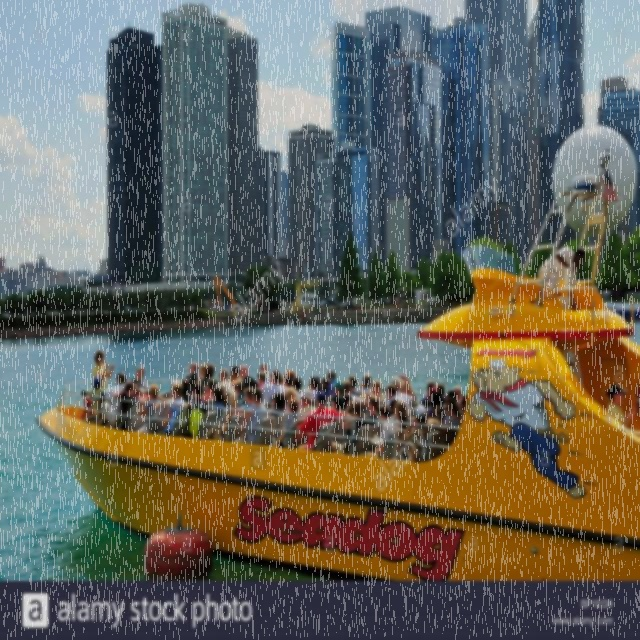pessoa: (264, 391, 352, 452), (537, 246, 587, 312), (402, 403, 452, 464), (230, 386, 272, 446), (330, 399, 368, 456), (359, 403, 397, 458), (420, 379, 468, 421), (112, 379, 150, 432), (157, 382, 187, 437), (272, 396, 300, 449), (604, 382, 636, 428), (100, 372, 127, 424), (136, 382, 163, 434), (80, 376, 106, 426), (308, 368, 344, 401), (172, 380, 206, 414), (383, 373, 416, 405), (220, 390, 244, 432), (92, 348, 115, 391), (279, 367, 305, 404), (260, 368, 284, 408), (356, 371, 374, 417), (341, 379, 369, 408), (386, 384, 412, 414), (298, 388, 319, 420), (212, 385, 232, 417), (212, 368, 234, 396), (442, 397, 462, 427), (238, 364, 260, 391), (324, 394, 344, 423), (186, 362, 202, 396), (394, 400, 412, 430), (365, 394, 382, 425), (268, 392, 288, 418), (200, 376, 216, 404), (227, 364, 242, 392), (234, 380, 248, 410), (240, 386, 254, 414), (135, 365, 150, 390), (346, 374, 361, 399), (318, 376, 334, 398), (151, 393, 170, 411), (368, 379, 384, 400), (180, 380, 192, 403), (342, 393, 354, 412), (256, 370, 268, 388), (399, 379, 411, 397), (260, 363, 270, 384), (200, 362, 208, 388), (388, 398, 399, 416), (134, 386, 148, 399), (198, 362, 208, 380), (282, 374, 294, 388), (358, 393, 369, 402), (172, 377, 180, 387), (394, 298, 402, 308), (181, 372, 190, 380), (344, 300, 350, 311)
